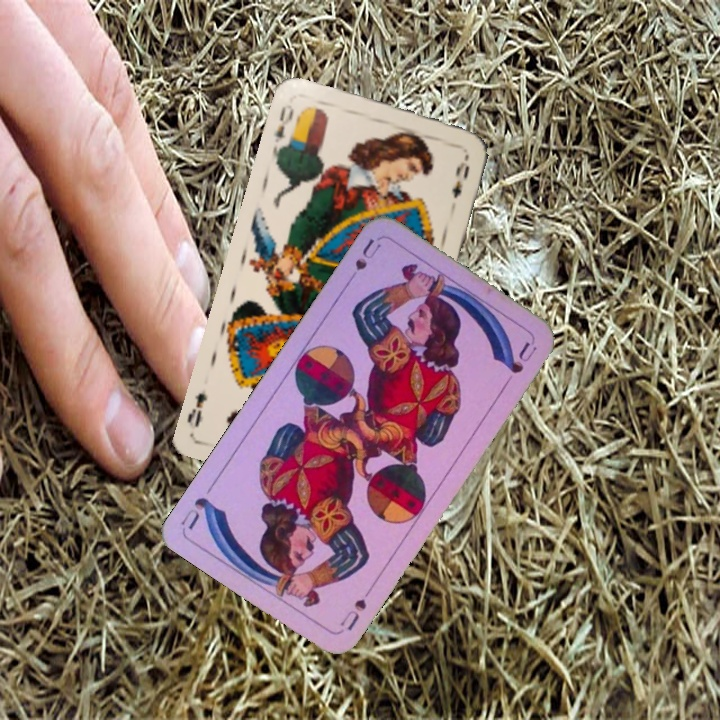EO: (268, 100, 301, 156)
SU: (342, 234, 384, 288), (335, 582, 376, 634)
